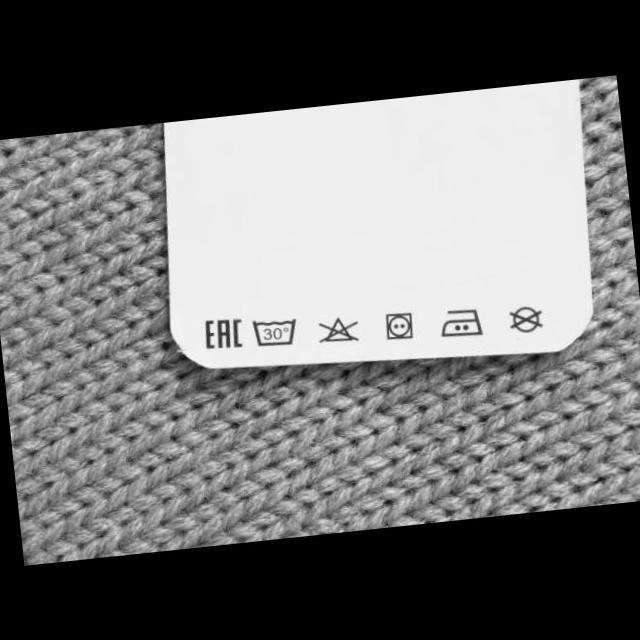30C: (250, 316, 298, 348)
DN_bleach: (316, 315, 360, 345)
DN_dry_clean: (506, 303, 546, 336)
iron_medium: (437, 306, 483, 341)
tumble_dry_medium: (384, 310, 414, 342)
